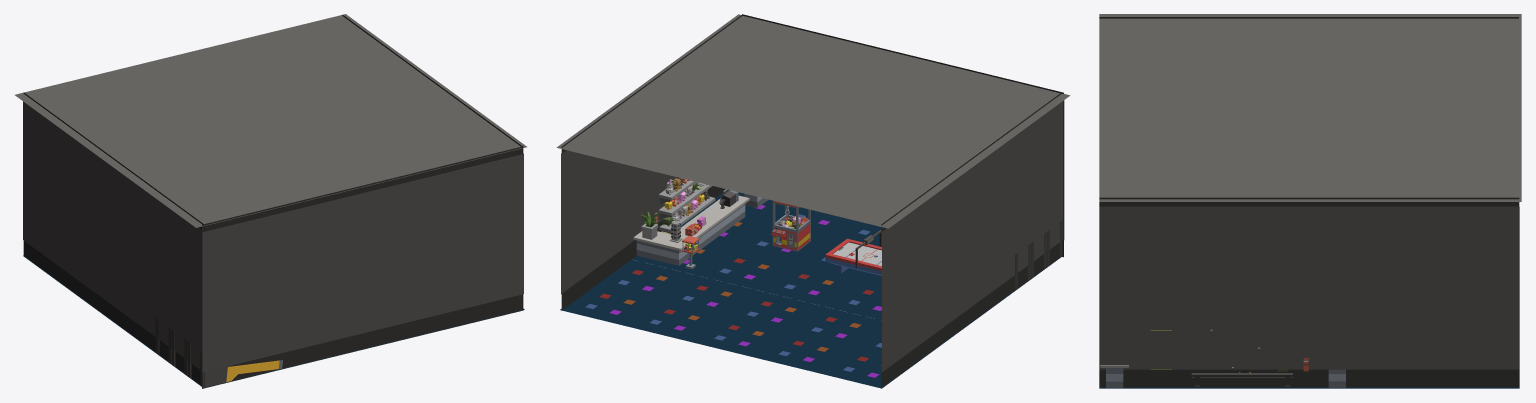
Rendered from arcade.glb.
The picture shows the model from 3 angles, left to right: view 1: azimuth 30°, elevation 25°; view 2: azimuth 150°, elevation 25°; view 3: azimuth 270°, elevation 25°; orthographic projection. The views are drawn at different scales.
Visible parts, largest first — view 1: SM_Env_Ceiling_8-col, SM_Env_Wall_65-col, SM_Env_Wall_64-col, SM_Env_Wall_60-col, SM_Env_Wall_66-col, SM_Env_Wall_67-col, SM_Env_Wall_57-col, SM_Env_Wall_58-col, SM_Env_Wall_56-col, SM_Env_Wall_59-col, SM_Env_Wall_55-col, SM_Prop_Arcade_SkeeballMachine_01-col; view 2: SM_Env_Ceiling_8-col, SM_Env_Wall_57-col, SM_Env_Wall_58-col, SM_Env_Wall_56-col, SM_Env_Wall_55-col, SM_Env_Wall_59-col, SM_Env_Wall_69-col, SM_Env_Wall_68-col, SM_Env_Floor_137-col, SM_Env_Floor_140-col, SM_Env_Floor_11-col, SM_Env_Floor_14-col (+22 smaller); view 3: SM_Env_Ceiling_8-col, SM_Env_Wall_69-col, SM_Env_Wall_62-col, SM_Env_Wall_61-col, SM_Env_Wall_63-col, SM_Env_Wall_68-col, SM_Prop_Counter_7-col.
Boxes of the visible parts, x1,y1,x2,y2 form: SM_Env_Ceiling_8-col: (15,14,526,227); SM_Env_Wall_65-col: (330,177,395,357); SM_Env_Wall_64-col: (395,162,459,341); SM_Env_Wall_60-col: (459,146,523,325); SM_Env_Wall_66-col: (266,193,330,373); SM_Env_Wall_67-col: (202,209,266,388); SM_Env_Wall_57-col: (92,143,130,333); SM_Env_Wall_58-col: (129,170,167,360); SM_Env_Wall_56-col: (56,117,92,306); SM_Env_Wall_59-col: (166,197,204,388); SM_Env_Wall_55-col: (23,92,56,279); SM_Prop_Arcade_SkeeballMachine_01-col: (187,340,282,387); SM_Env_Ceiling_8-col: (556,14,1070,228); SM_Env_Wall_57-col: (951,146,988,337); SM_Env_Wall_58-col: (988,119,1025,309); SM_Env_Wall_56-col: (915,174,951,363); SM_Env_Wall_55-col: (881,200,915,388); SM_Env_Wall_59-col: (1025,92,1062,282); SM_Env_Wall_69-col: (561,123,598,310); SM_Env_Wall_68-col: (593,96,631,286); SM_Env_Floor_137-col: (694,247,794,290); SM_Env_Floor_140-col: (758,263,859,305); SM_Env_Floor_11-col: (721,290,822,333); SM_Env_Floor_14-col: (785,306,881,348); SM_Env_Ceiling_8-col: (1099,14,1521,201); SM_Env_Wall_69-col: (1433,197,1519,387); SM_Env_Wall_62-col: (1185,197,1271,387); SM_Env_Wall_61-col: (1271,197,1357,387); SM_Env_Wall_63-col: (1099,197,1185,387); SM_Env_Wall_68-col: (1357,197,1443,387); SM_Prop_Counter_7-col: (1100,365,1128,388).
Bounding box in the file's own units: 25.79 × 12.25 × 24.5.
7 materials, 7 textured.
